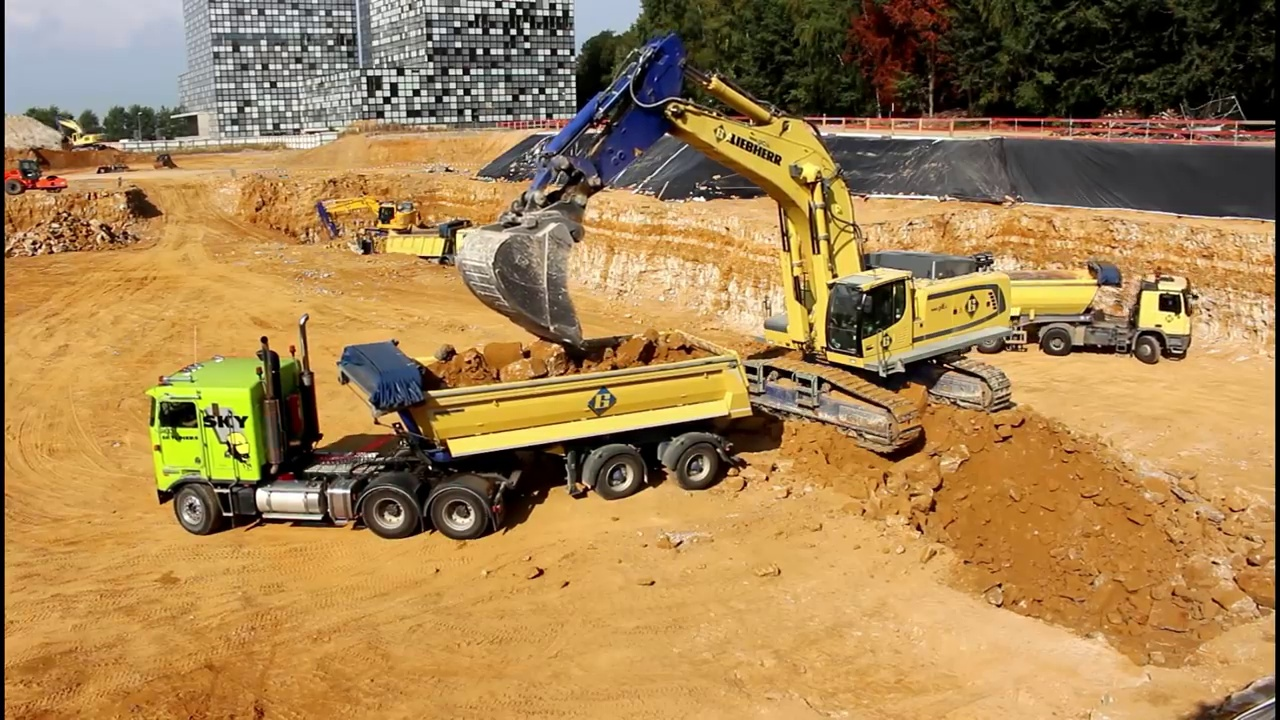compactor: (2, 158, 71, 198)
excavator: (452, 28, 1018, 459), (311, 190, 436, 255), (49, 112, 116, 158)
truck: (142, 312, 759, 543), (952, 255, 1198, 368), (374, 217, 499, 285)
